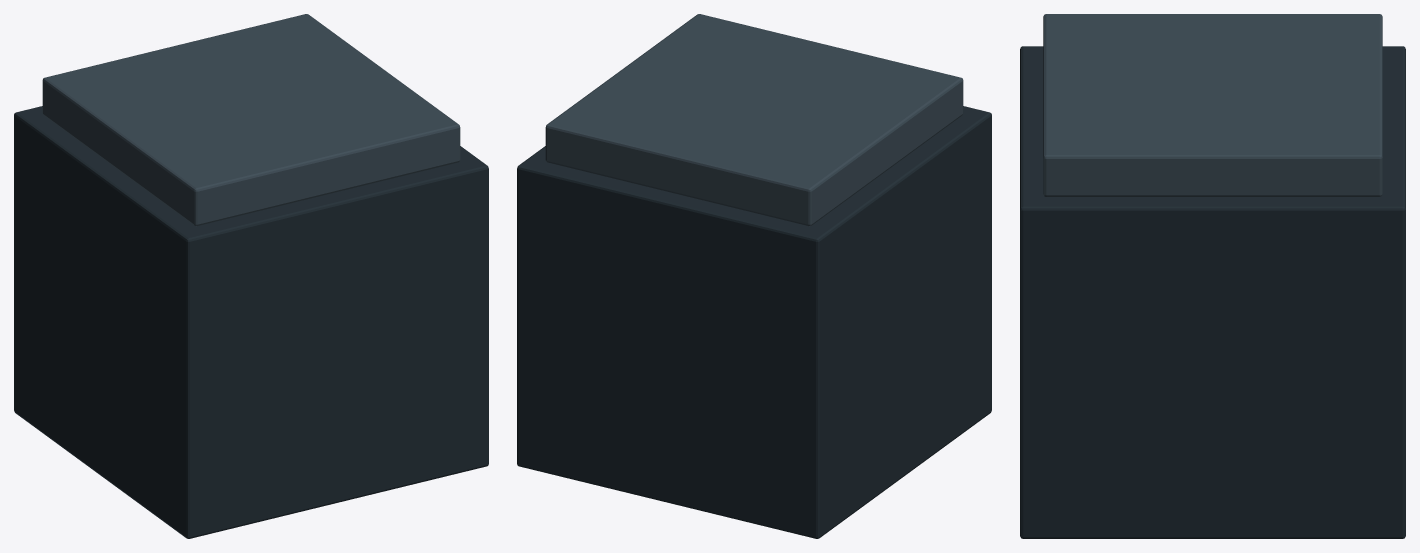
File: CC_S16_P2_Furniture_FeaturedDisplay_LOD0.fbx
The picture shows the model from 3 angles, left to right: view 1: azimuth 30°, elevation 25°; view 2: azimuth 150°, elevation 25°; view 3: azimuth 270°, elevation 25°; orthographic projection. The views are drawn at different scales.
Parts seen in each view (by area): view 1: CC_S16_P2_Furniture_FeaturedDisplay_LOD0_Base, CC_S16_P2_Furniture_FeaturedDisplay_LOD0_Top; view 2: CC_S16_P2_Furniture_FeaturedDisplay_LOD0_Base, CC_S16_P2_Furniture_FeaturedDisplay_LOD0_Top; view 3: CC_S16_P2_Furniture_FeaturedDisplay_LOD0_Base, CC_S16_P2_Furniture_FeaturedDisplay_LOD0_Top.
Boxes of the visible parts, bbox=[...] form: CC_S16_P2_Furniture_FeaturedDisplay_LOD0_Base: bbox=[14, 106, 488, 538]; CC_S16_P2_Furniture_FeaturedDisplay_LOD0_Top: bbox=[42, 14, 460, 226]; CC_S16_P2_Furniture_FeaturedDisplay_LOD0_Base: bbox=[517, 106, 991, 538]; CC_S16_P2_Furniture_FeaturedDisplay_LOD0_Top: bbox=[545, 14, 963, 226]; CC_S16_P2_Furniture_FeaturedDisplay_LOD0_Base: bbox=[1020, 46, 1405, 538]; CC_S16_P2_Furniture_FeaturedDisplay_LOD0_Top: bbox=[1043, 14, 1382, 196].
Size of what is drawn, in the model's own units: 1 by 1.07 by 1.
